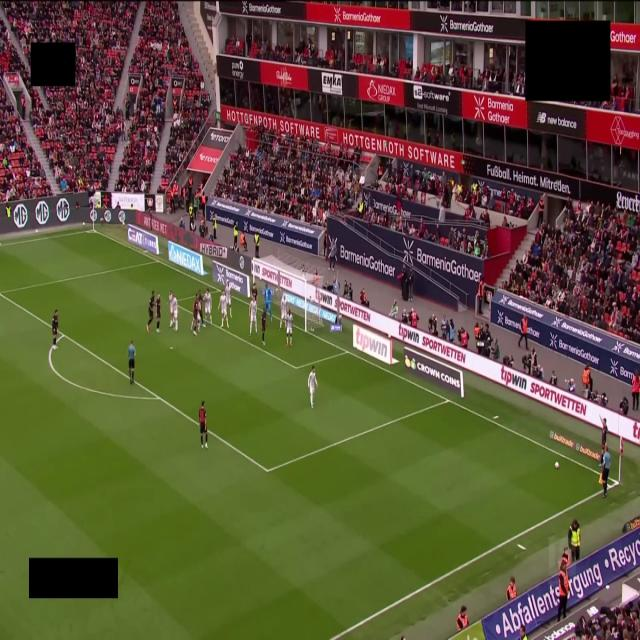ball: (555, 462, 559, 469)
player: (199, 400, 207, 448), (308, 367, 317, 408), (147, 291, 155, 332), (263, 284, 272, 320), (219, 291, 228, 327), (192, 296, 200, 335), (169, 292, 177, 330), (198, 291, 206, 327), (204, 288, 212, 324), (250, 297, 257, 335), (225, 280, 232, 317), (280, 293, 287, 330), (286, 310, 293, 346), (52, 309, 58, 349), (261, 307, 266, 345), (156, 294, 160, 332), (251, 283, 257, 299)
referee: (602, 445, 610, 496), (128, 341, 135, 384)
